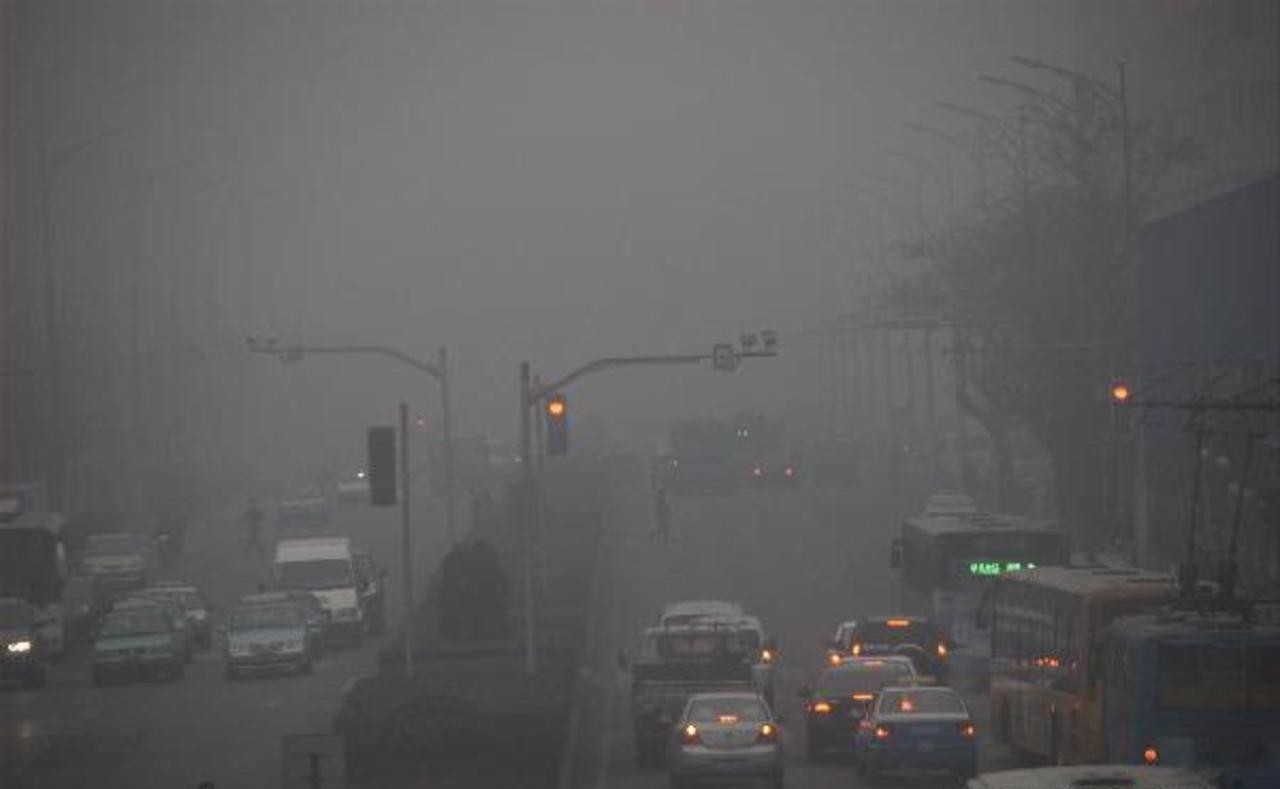bus: (957, 542, 1265, 781), (1113, 600, 1271, 779), (895, 515, 1049, 682), (4, 515, 73, 645), (430, 431, 484, 496)
car: (856, 686, 976, 787), (800, 657, 914, 758), (668, 692, 785, 786), (273, 541, 358, 642), (218, 596, 319, 680), (92, 605, 194, 684), (851, 614, 956, 674), (686, 618, 776, 678), (2, 596, 47, 688), (82, 527, 145, 589), (124, 499, 179, 561), (160, 581, 209, 638), (276, 474, 330, 525), (357, 550, 386, 637), (823, 623, 863, 669), (746, 448, 797, 483)
person: (240, 501, 266, 557), (649, 491, 673, 542)
truck: (626, 626, 751, 741), (672, 415, 736, 493)
